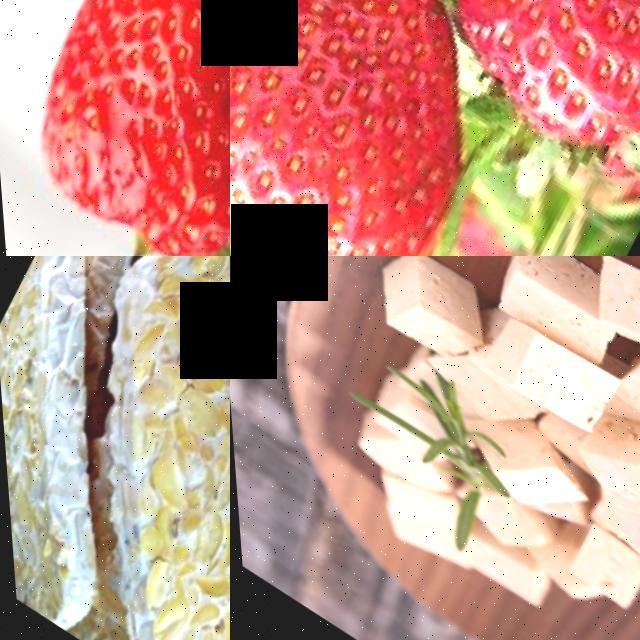strawberry: (230, 0, 513, 256), (0, 0, 230, 248), (423, 0, 640, 186), (164, 0, 230, 256)
tempeh: (31, 256, 230, 609), (0, 362, 159, 636), (81, 507, 230, 640)
tofu: (473, 298, 619, 433), (352, 256, 497, 367), (474, 256, 612, 350), (559, 389, 640, 538), (486, 416, 593, 527), (549, 506, 640, 607), (575, 256, 640, 378), (607, 322, 640, 461), (607, 473, 640, 587)
